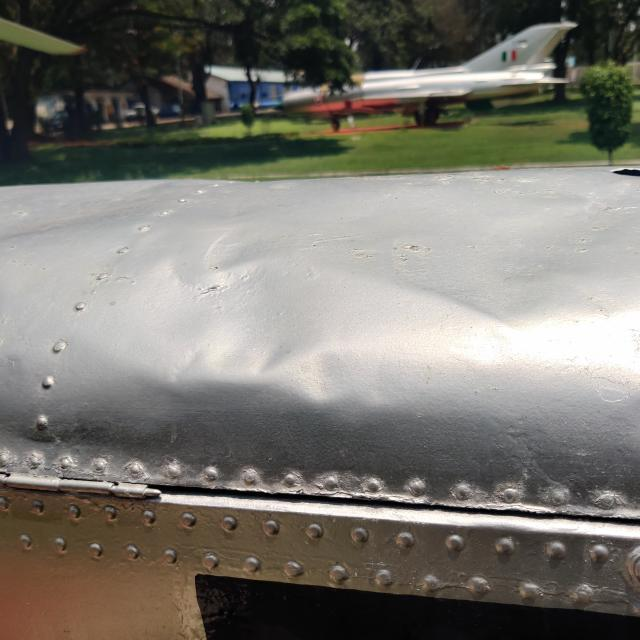dent: (100, 213, 348, 432)
